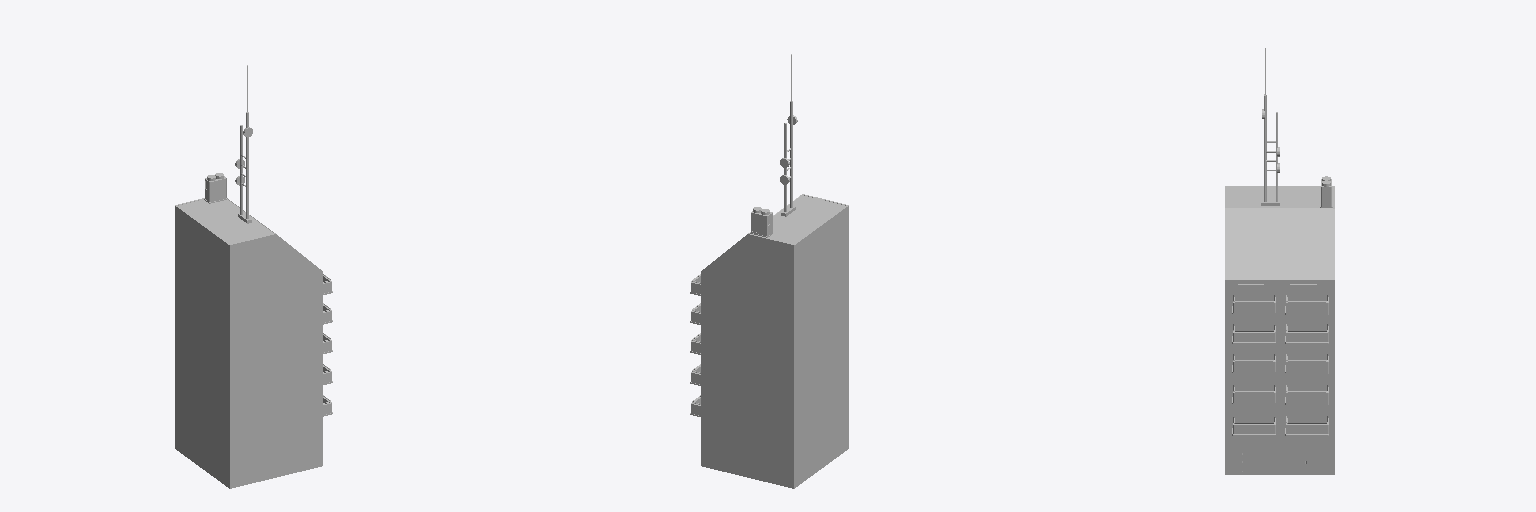
Rendered from TokyoBuilding.obj.
3 views of the same model, side by side, from view 1: azimuth 30°, elevation 25°; view 2: azimuth 150°, elevation 25°; view 3: azimuth 270°, elevation 25° (orthographic).
Visible parts, largest first — view 1: SM_SM_SampleBuilding1; view 2: SM_SM_SampleBuilding1; view 3: SM_SM_SampleBuilding1.
Part boxes in pixels (x1,y1,x2,y2): SM_SM_SampleBuilding1: (175,65,332,488); SM_SM_SampleBuilding1: (690,54,848,488); SM_SM_SampleBuilding1: (1225,48,1334,474).
Size of the model in its own units: 11.52 by 41.03 by 10.2.